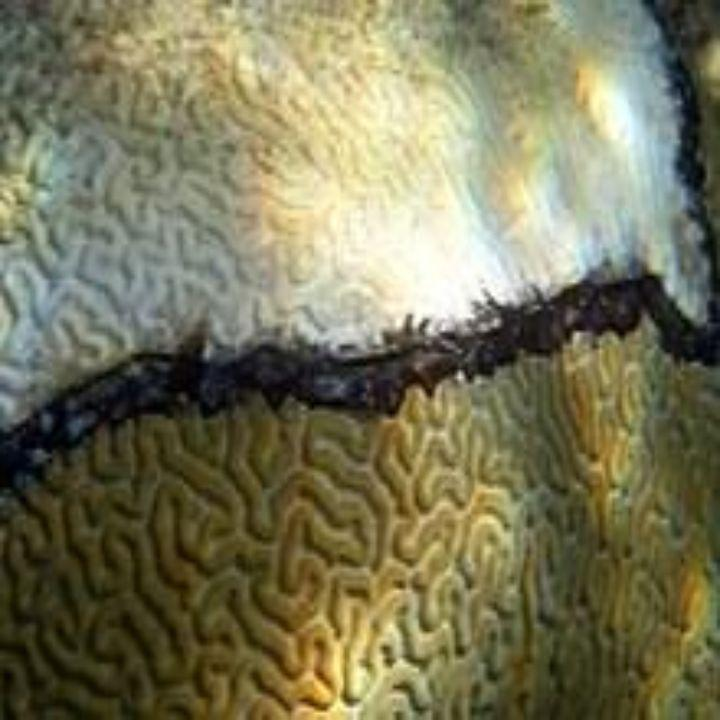Band disease: (0, 261, 719, 471)
